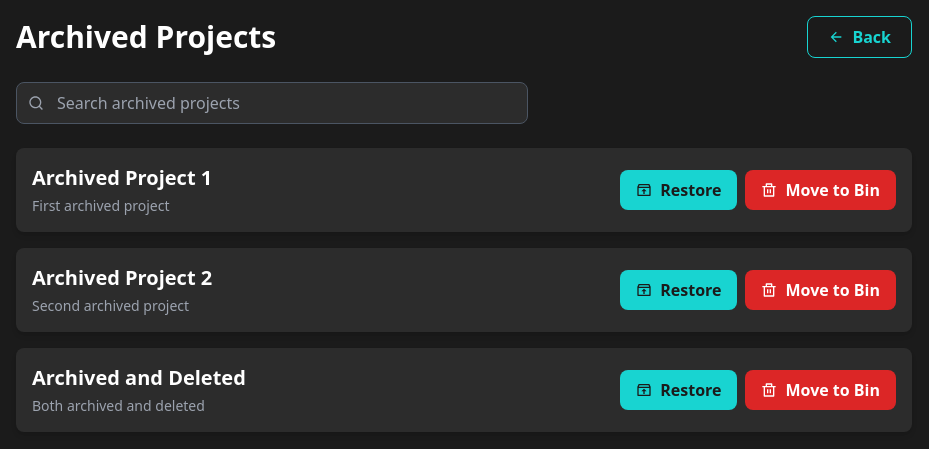
Test case: ArchivePage Component › clears search when clear button is clicked
Check: the button "Archived Project 1" is shown, box left=32, top=164, right=212, bottom=192
Step 1. Type "Project 1" into the field with placeholder "Search archived projects" → coordinates (272, 103), box left=16, top=82, right=528, bottom=124
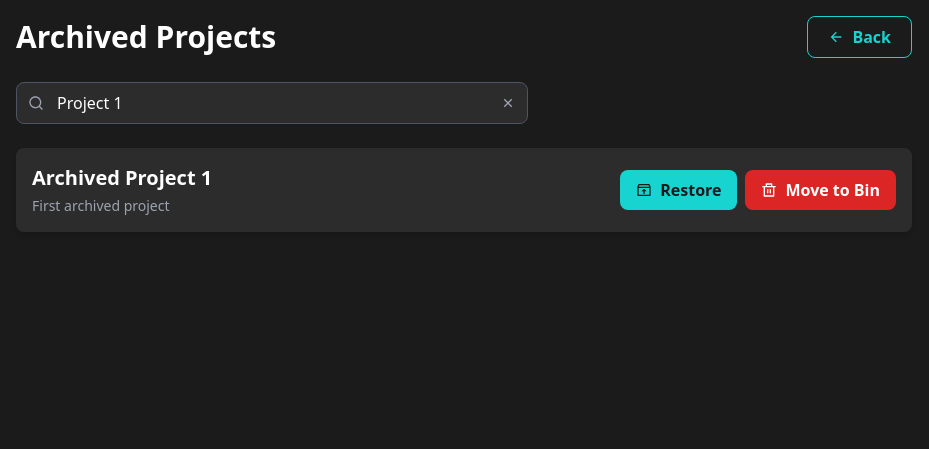
Check: the button "Archived Project 2" is gone
Step 2. Click the button titled "Clear search" → coordinates (514, 103), box left=500, top=82, right=528, bottom=124
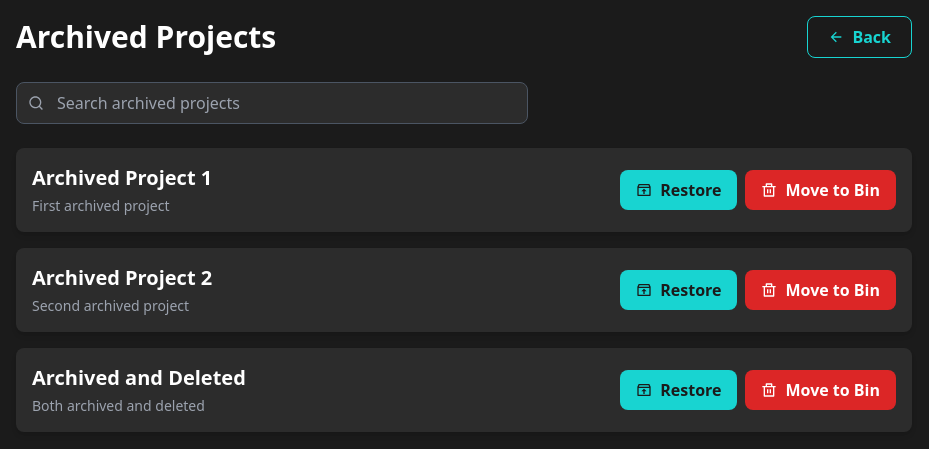
Check: the field with placeholder "Search archived projects" is empty, box left=16, top=82, right=528, bottom=124
Check: the button "Archived Project 2" is shown, box left=32, top=264, right=212, bottom=292
